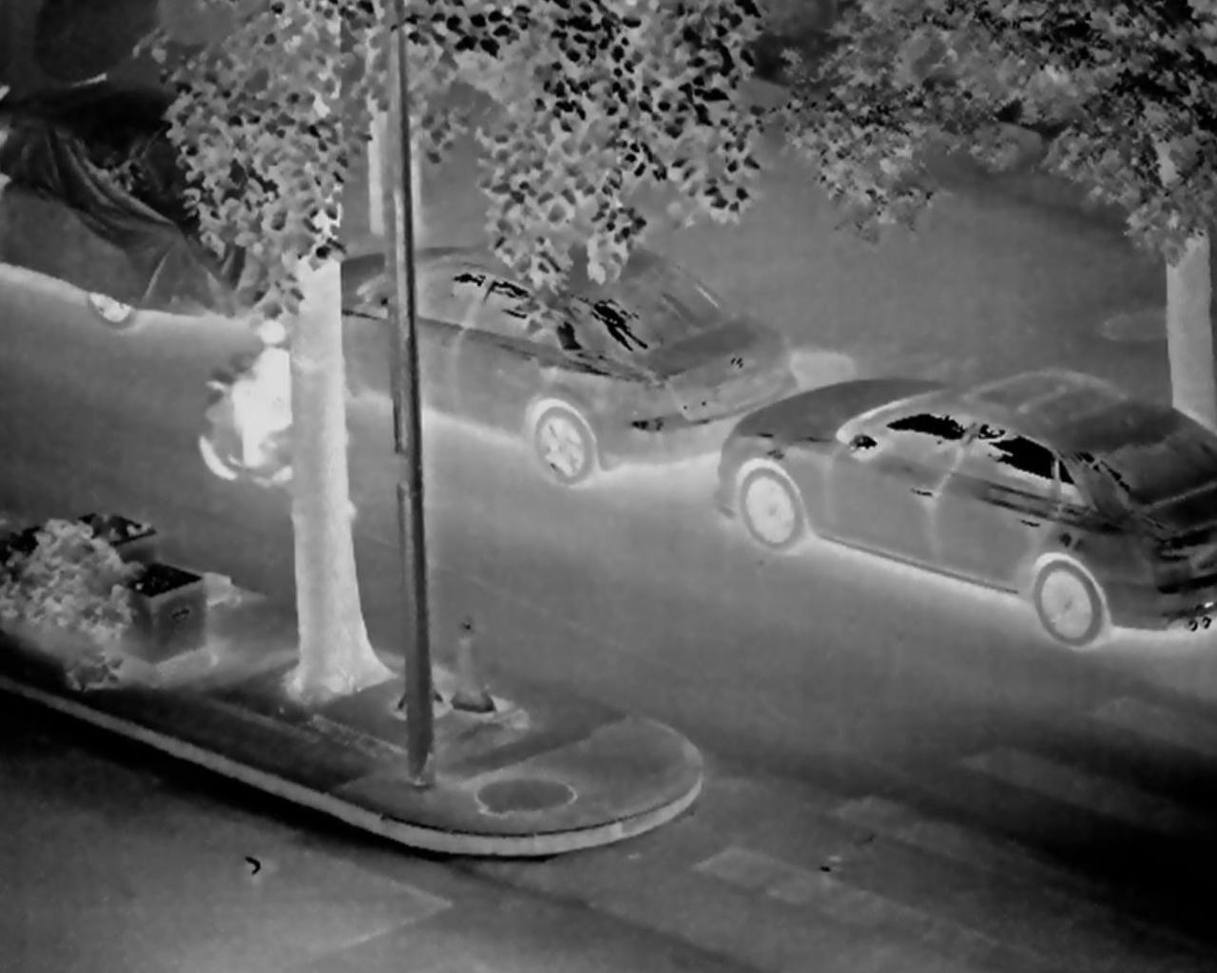person: (196, 319, 296, 484)
